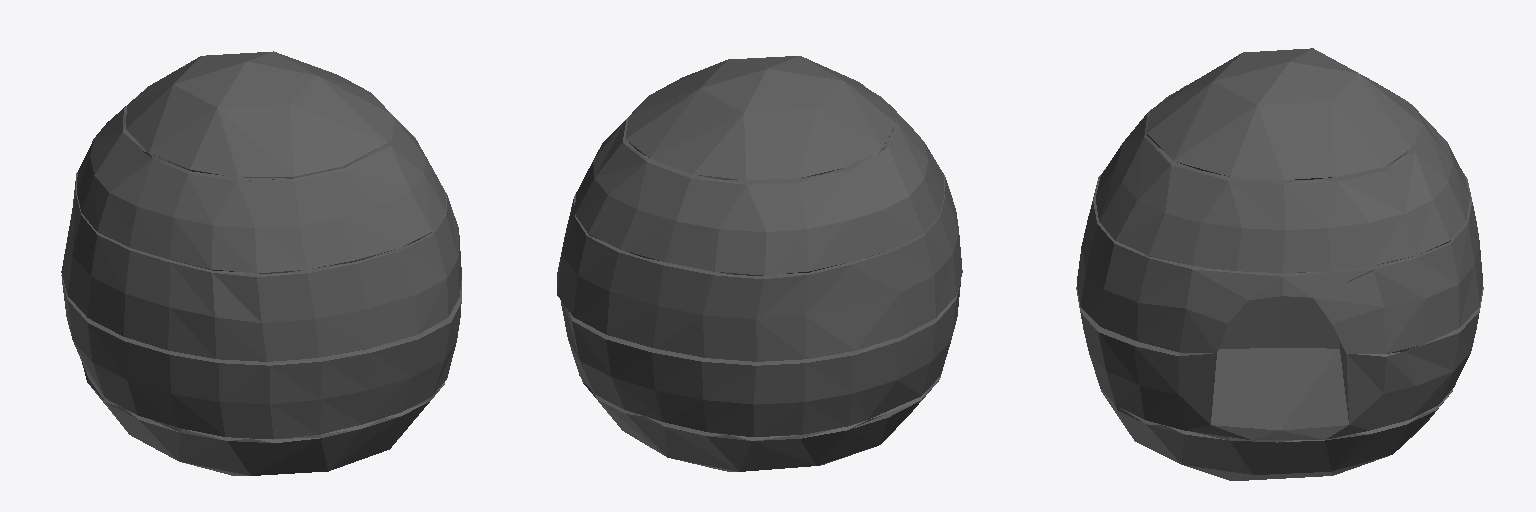
The model's file is Hive.obj.
The picture shows the model from 3 angles: view 1: azimuth 30°, elevation 25°; view 2: azimuth 150°, elevation 25°; view 3: azimuth 270°, elevation 25°; orthographic projection.
Bounding box in the file's own units: 1.15 × 1.25 × 1.21.